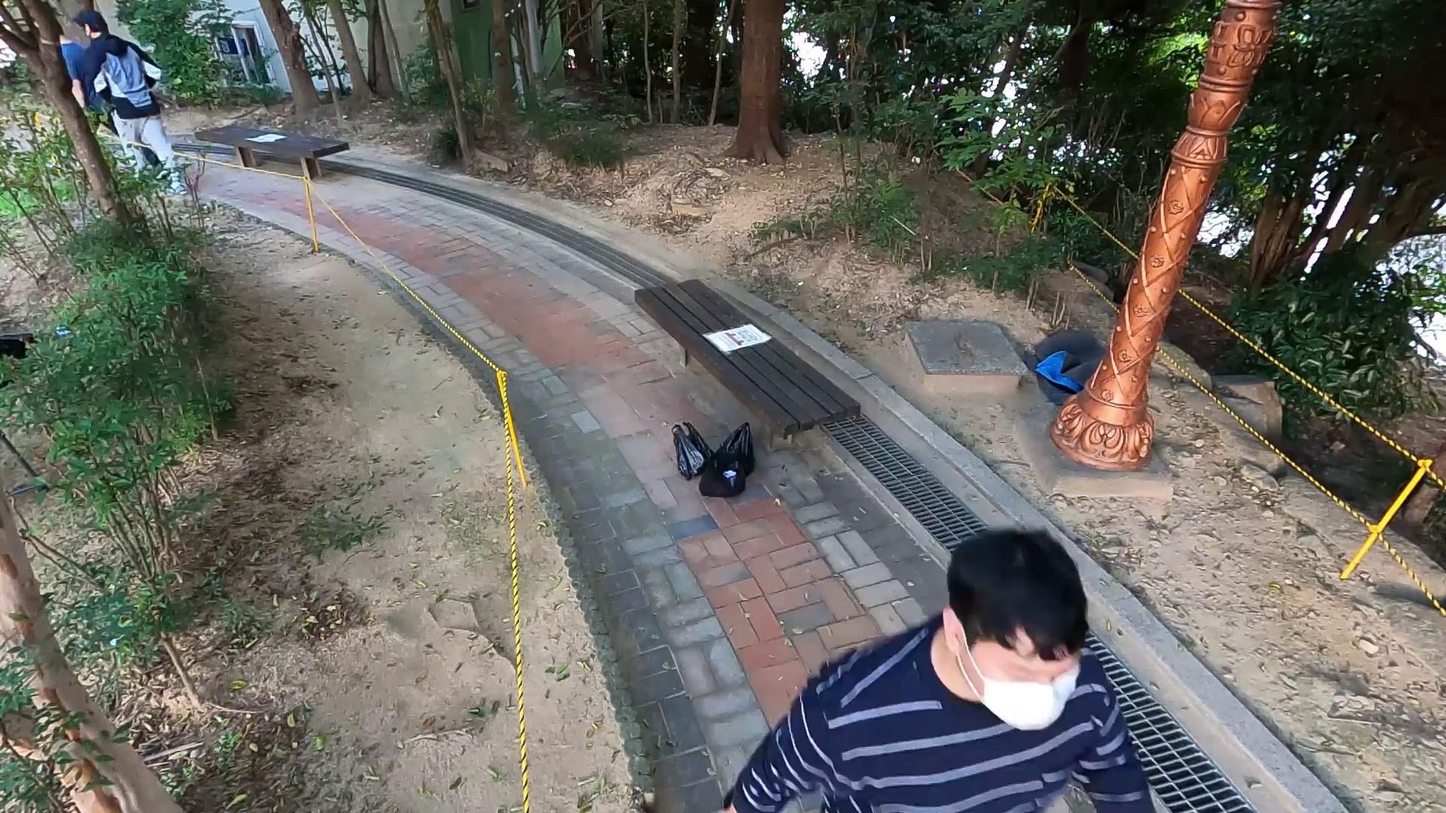person: (712, 510, 1196, 813), (72, 15, 206, 206), (40, 12, 105, 130)
trash: (669, 418, 712, 481), (698, 450, 747, 498), (712, 420, 759, 469)
